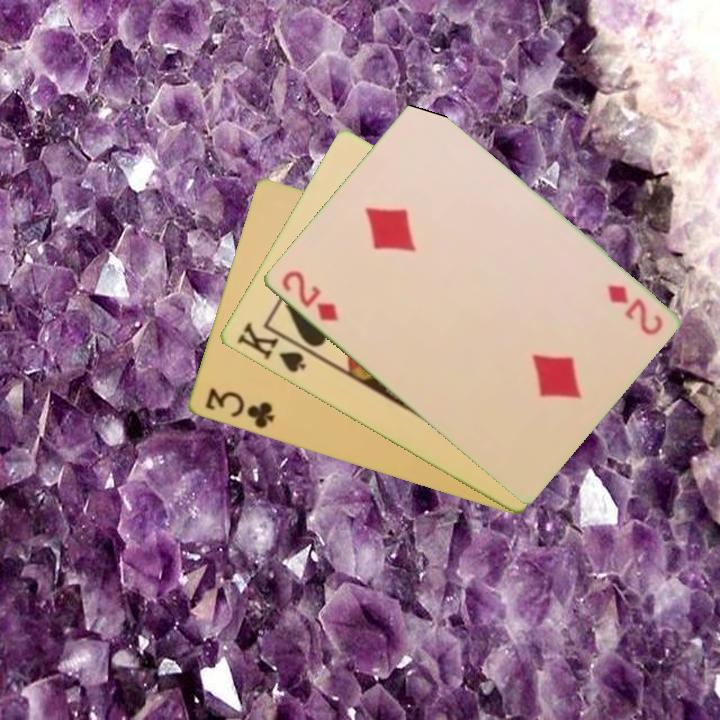2d: (277, 266, 341, 325), (603, 281, 665, 339)
3c: (201, 384, 277, 432)
Ks: (232, 318, 315, 376)
